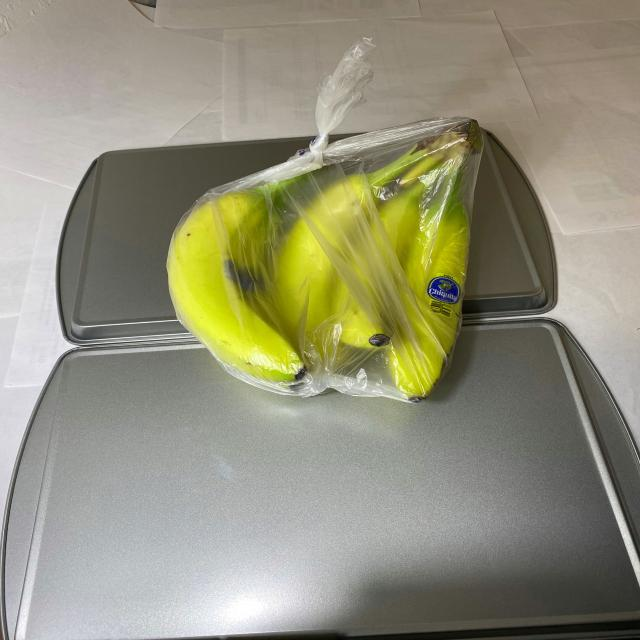banana: (168, 113, 492, 405)
